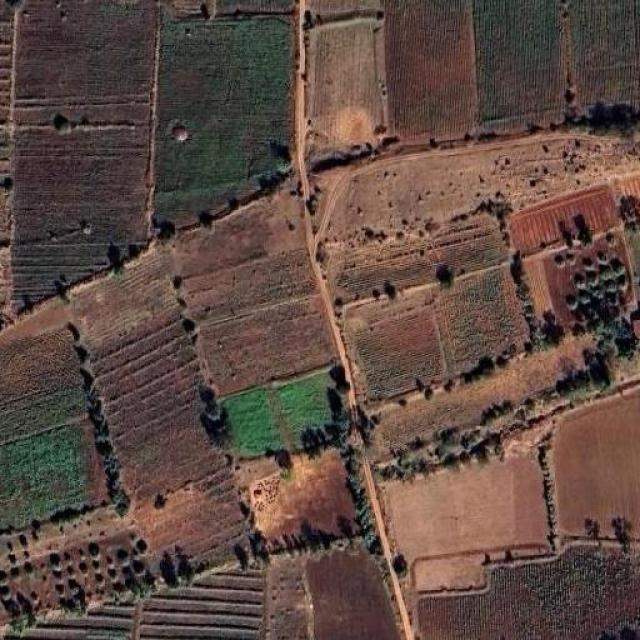land-Sx1C: (70, 245, 220, 496), (370, 325, 609, 466), (172, 190, 332, 394), (329, 131, 640, 233), (154, 16, 292, 224), (418, 544, 640, 640), (0, 502, 159, 622), (16, 0, 158, 122), (384, 458, 546, 562), (14, 118, 148, 242), (318, 214, 508, 301), (551, 385, 640, 538), (384, 0, 476, 140), (0, 301, 84, 441), (472, 0, 561, 131), (130, 468, 245, 566), (306, 16, 385, 158), (222, 370, 348, 457), (436, 262, 528, 374), (250, 450, 358, 540), (0, 425, 89, 527), (542, 233, 633, 331), (306, 548, 400, 640), (141, 570, 261, 640), (351, 309, 444, 399), (510, 184, 620, 255), (571, 0, 640, 109), (13, 243, 106, 303), (5, 605, 136, 639), (261, 555, 309, 639), (411, 554, 484, 592), (522, 254, 552, 318)
